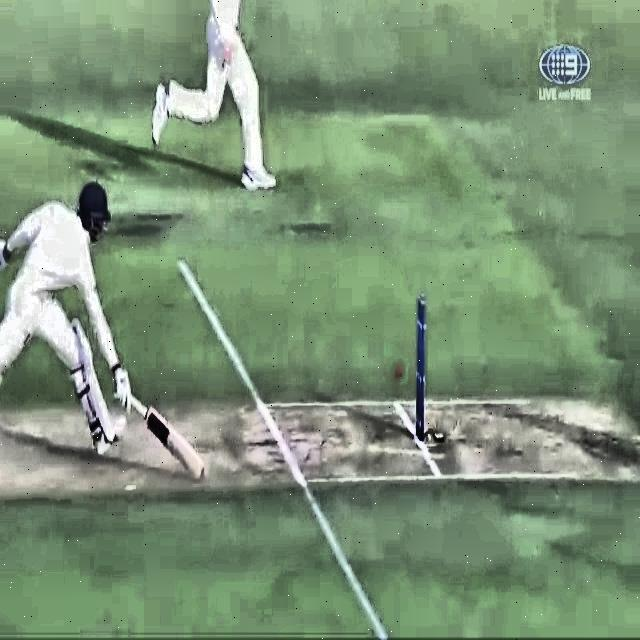Ball: (389, 363, 411, 386)
Bat: (114, 384, 213, 483)
Pitch_Line: (176, 257, 387, 640)
Undis_Wicket: (413, 295, 434, 441)
